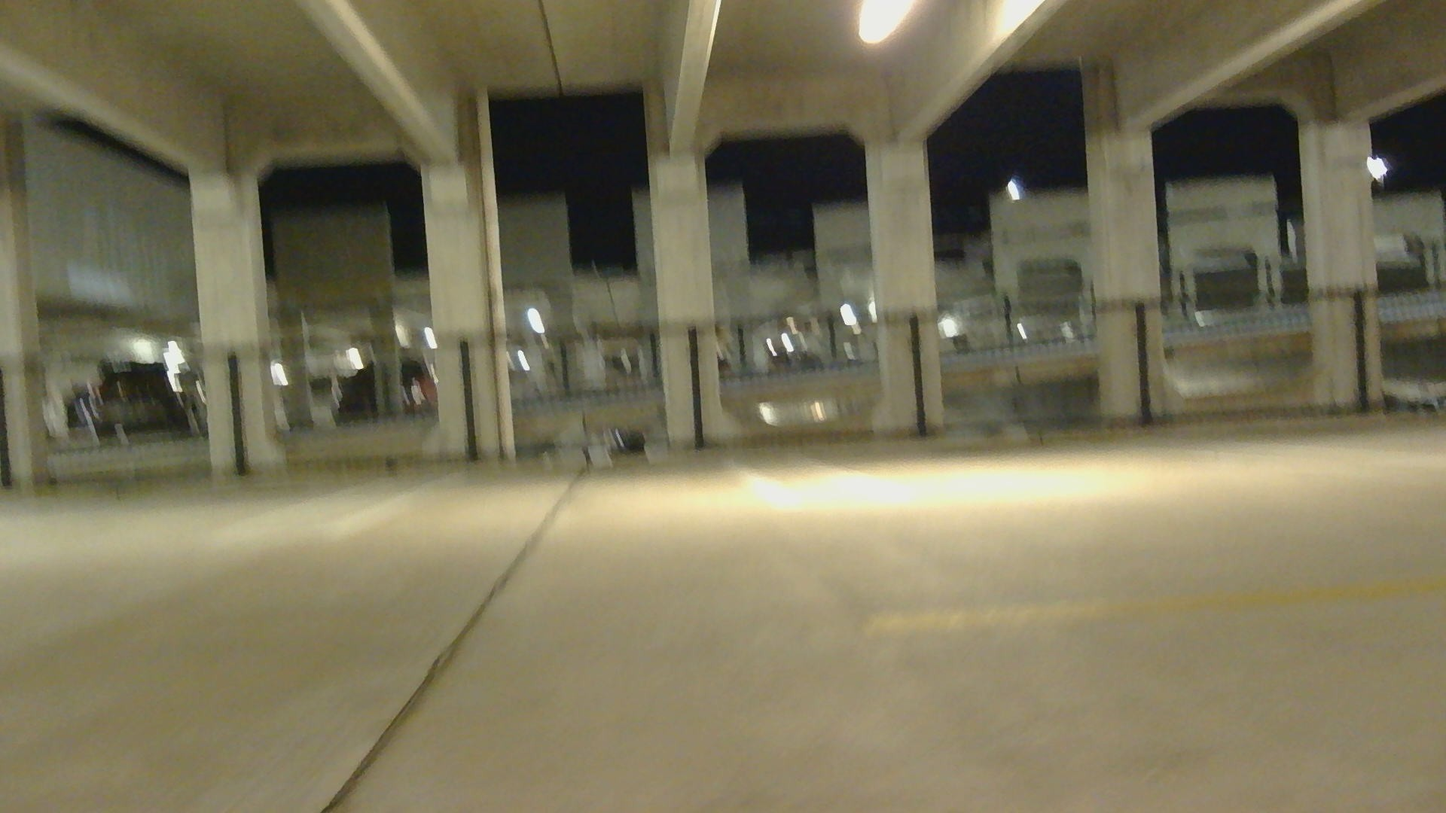empty_spot: (743, 367, 1400, 520), (324, 382, 851, 546), (0, 405, 447, 556), (1111, 361, 1446, 481)
